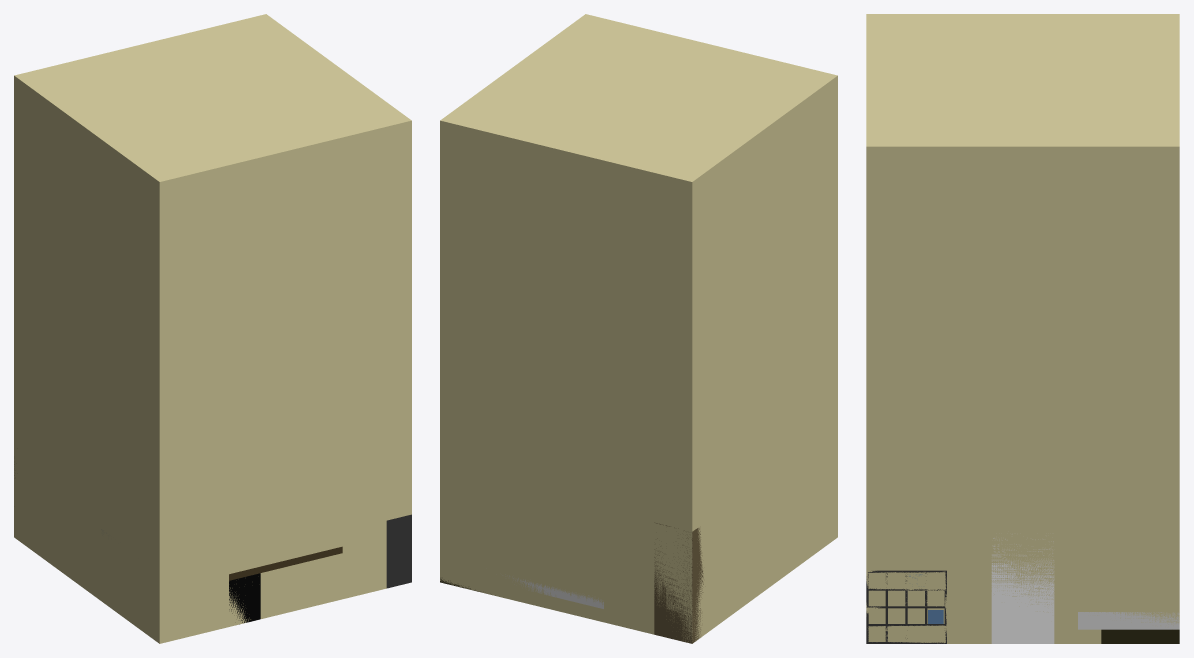
The model's file is FBX-Shooter-Map.fbx.
3 views of the same model, side by side, from view 1: azimuth 30°, elevation 25°; view 2: azimuth 150°, elevation 25°; view 3: azimuth 270°, elevation 25° (orthographic). The views are drawn at different scales.
Parts seen in each view (by area): view 1: Cube.001, Cube.011, Cube.018, Cube.005, Cube.004; view 2: Cube.001, Cube.012, Cube.002; view 3: Cube.001, Cube.003, Cube.002, Cube.011, Cube.
Part boxes in pixels (left/top/right/bottom): Cube.001: left=14, top=14, right=411, bottom=643; Cube.011: left=386, top=514, right=411, bottom=588; Cube.018: left=101, top=457, right=144, bottom=553; Cube.005: left=229, top=573, right=260, bottom=624; Cube.004: left=229, top=546, right=342, bottom=580; Cube.001: left=440, top=14, right=837, bottom=643; Cube.012: left=654, top=522, right=703, bottom=643; Cube.002: left=502, top=574, right=603, bottom=608; Cube.001: left=866, top=14, right=1179, bottom=643; Cube.003: left=991, top=534, right=1054, bottom=643; Cube.002: left=1078, top=612, right=1179, bottom=629; Cube.011: left=866, top=570, right=946, bottom=643; Cube: left=1101, top=629, right=1179, bottom=643.
Bounding box in the file's own units: 4000 × 7000 × 4000.
